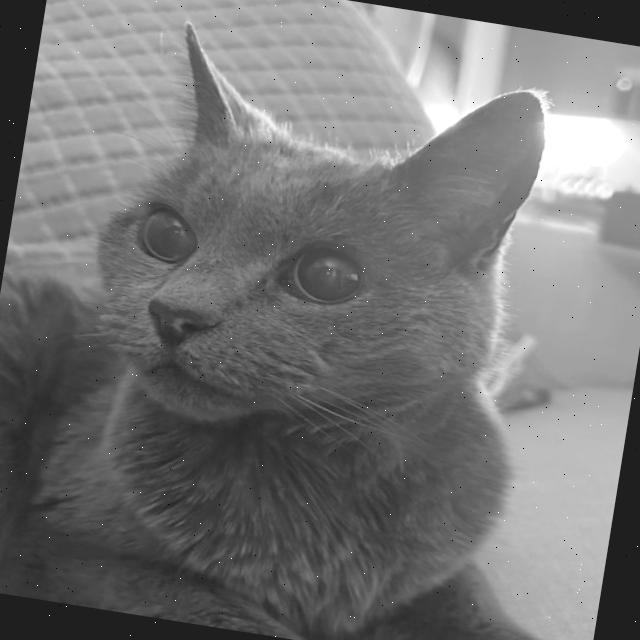russian_blue_cat: (52, 5, 583, 489)
